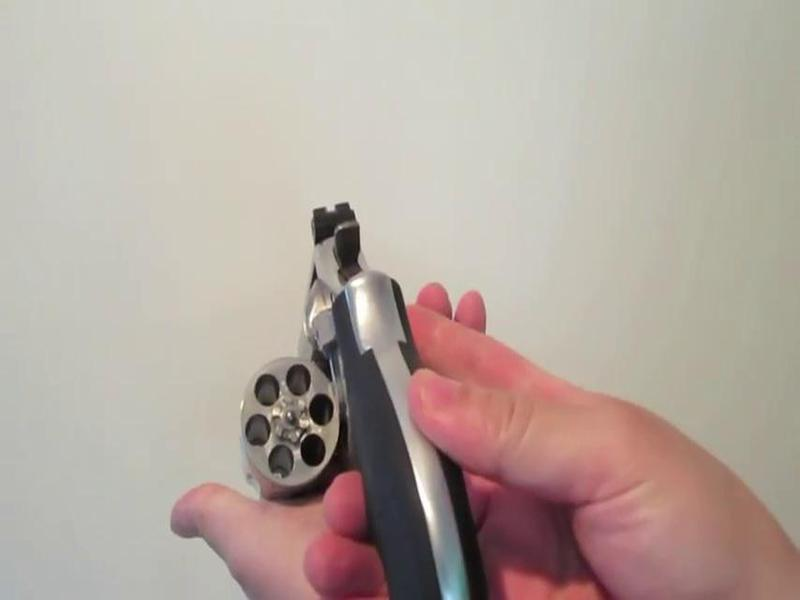Revolver: (209, 179, 520, 600)
